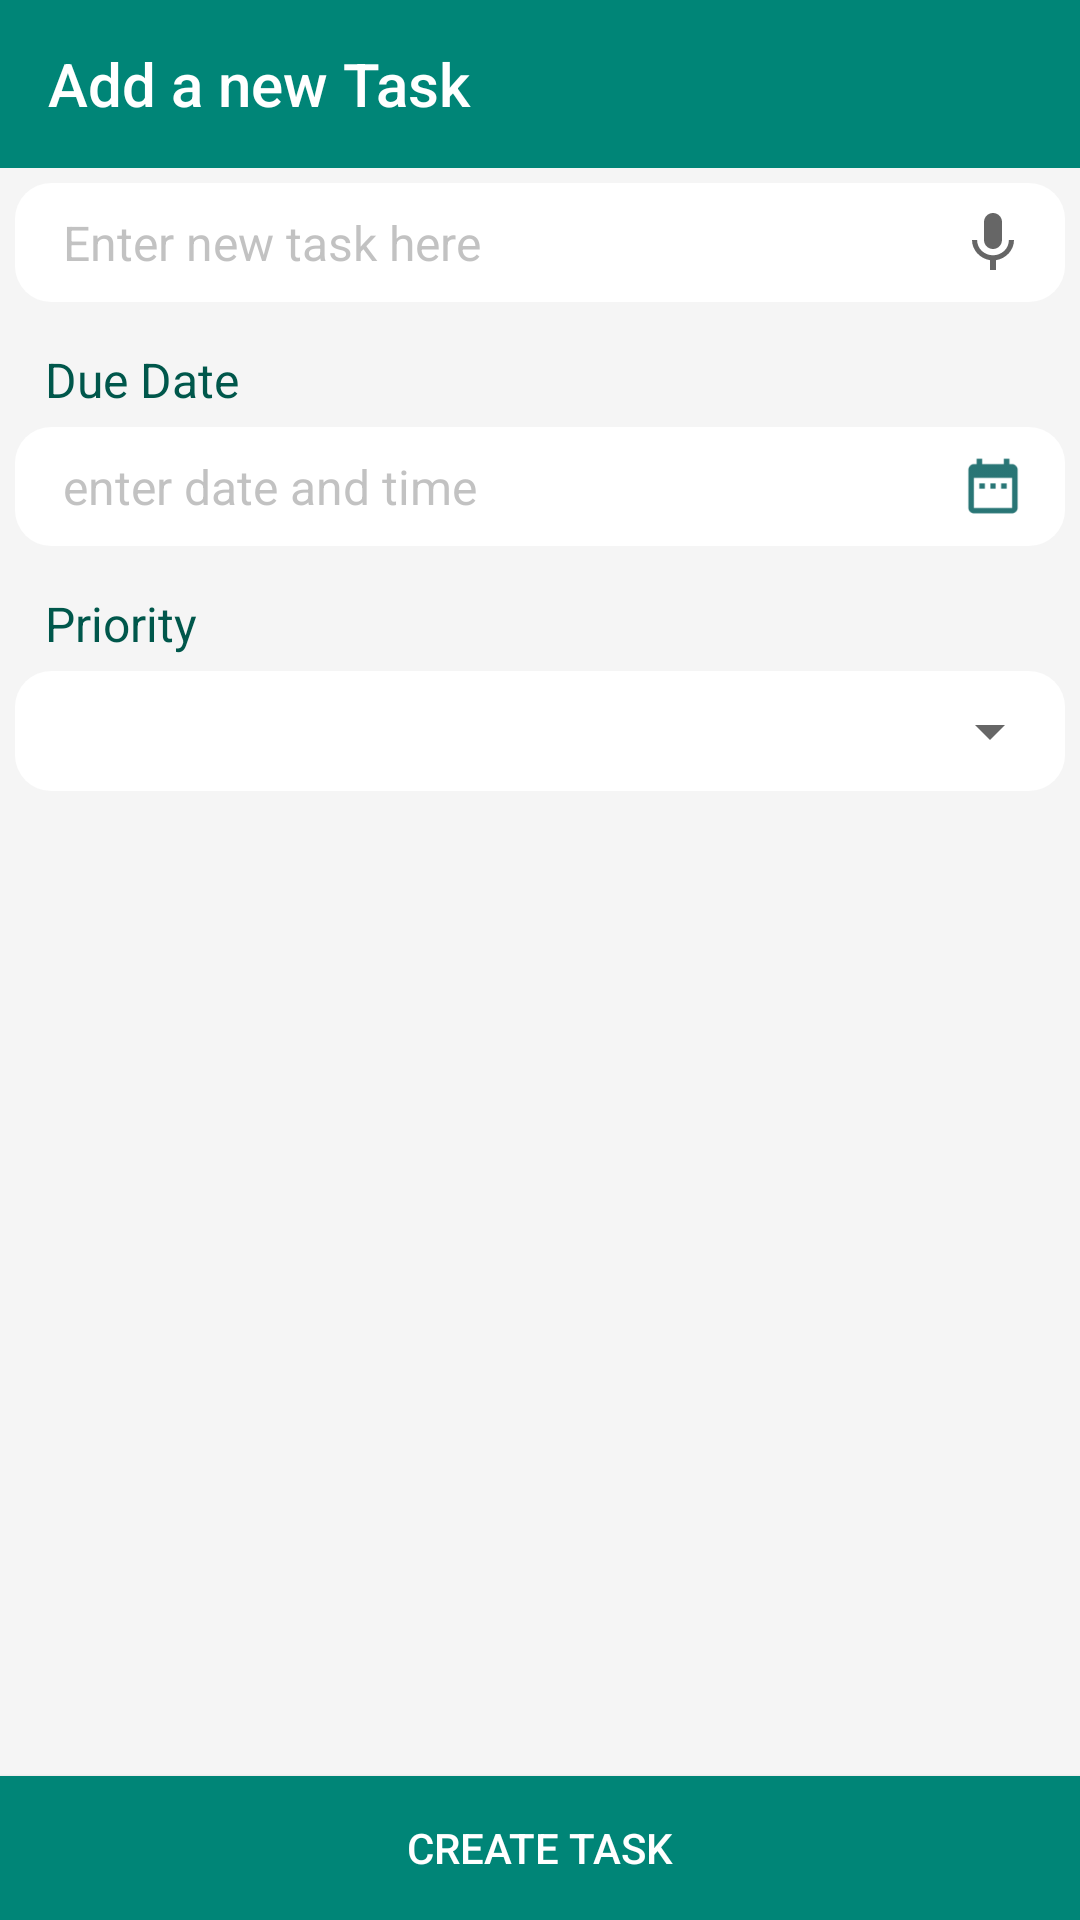

Icon bounding boxes for this 1080*1920 phone screenshot, format [x1, y1, x2, y2]:
speech to text: [972, 213, 1014, 270]
